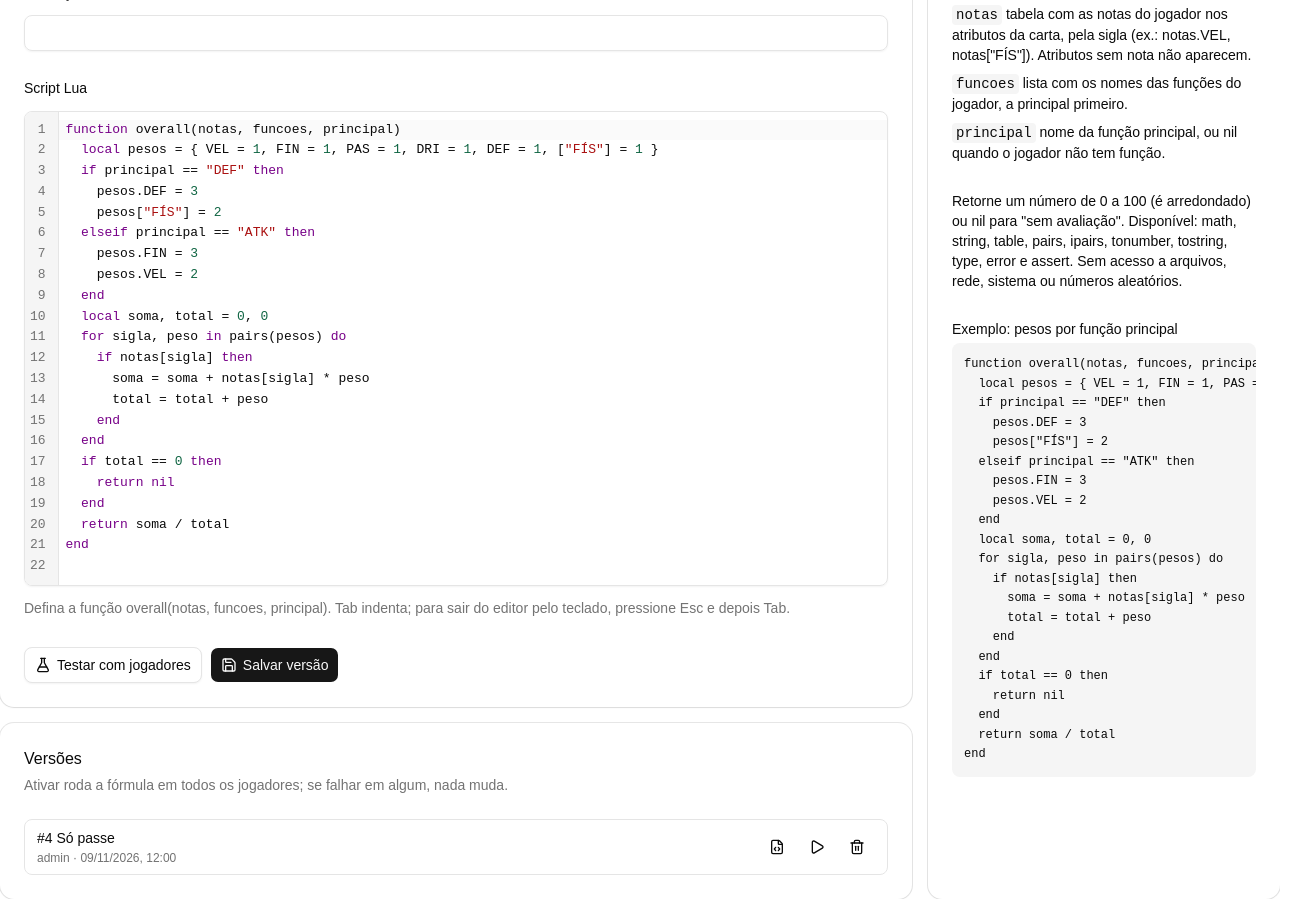
Test: FormulaPage › lista as falhas quando a ativação é recusada
(page scrolled)
Click the button named "Ativar versão 4": (817, 847) [799,829,835,865]
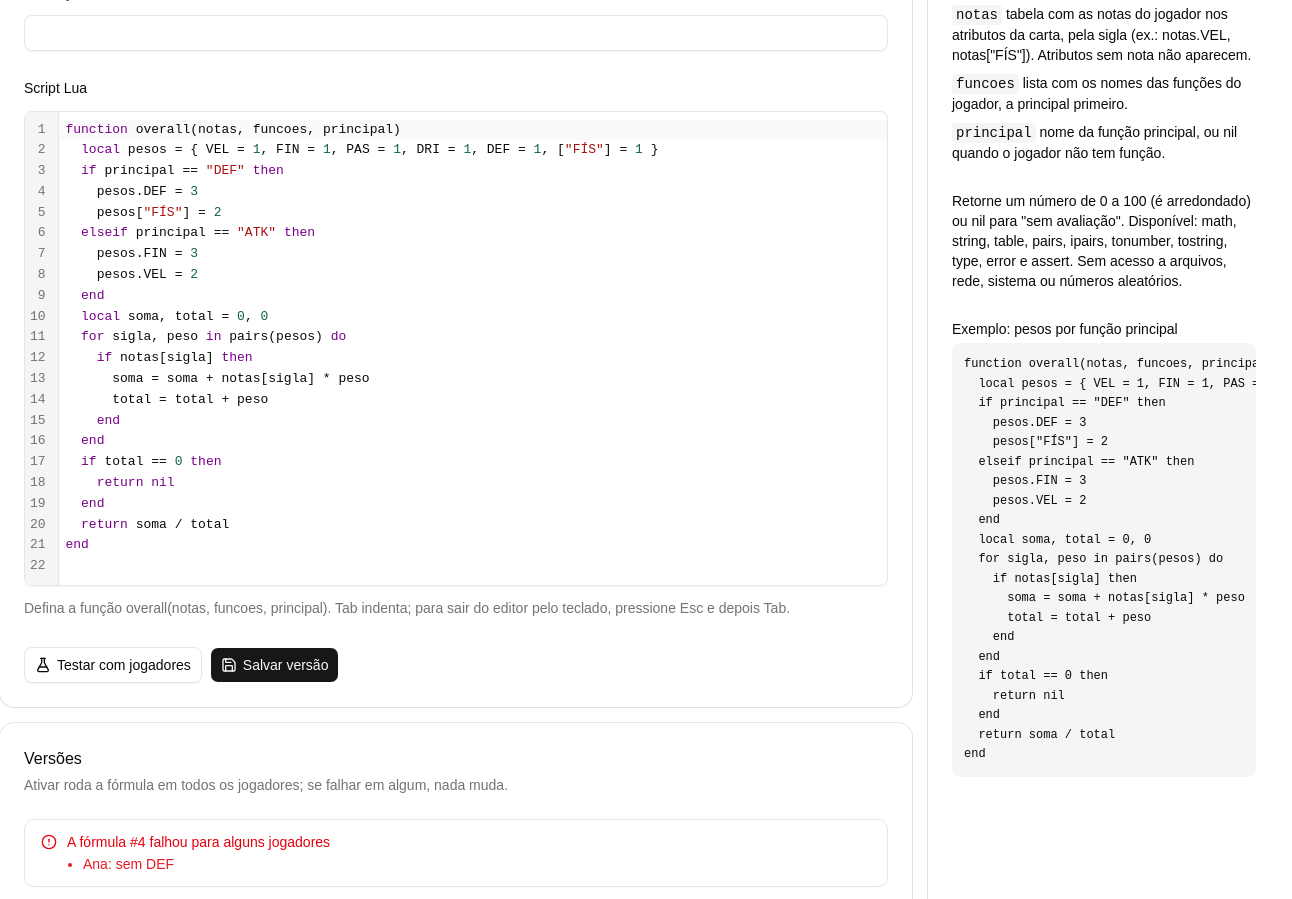
Check: the text "A fórmula #4 falhou para alguns jogadores" is shown, box [67,834,330,850]
Check: the list item "Ana: sem DEF" is shown, box [83,856,174,872]
